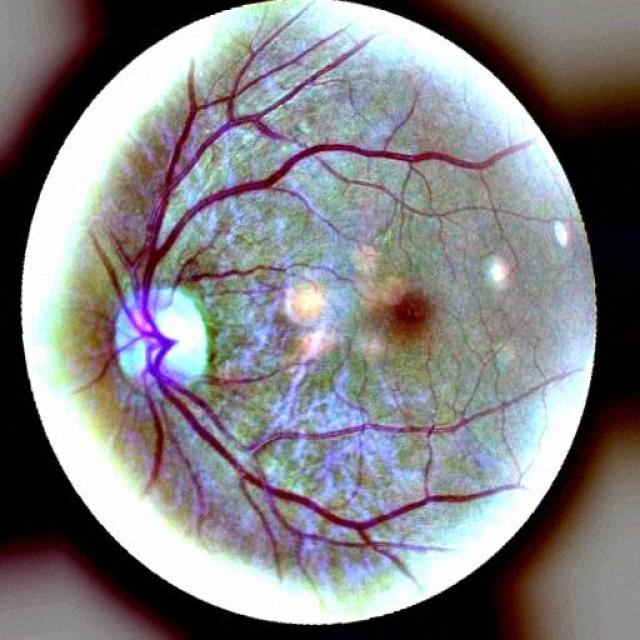Macula: (371, 284, 444, 346)
Nerves: (146, 106, 494, 271), (182, 416, 504, 555), (140, 404, 169, 504)
Optic Disk: (108, 274, 223, 408)
